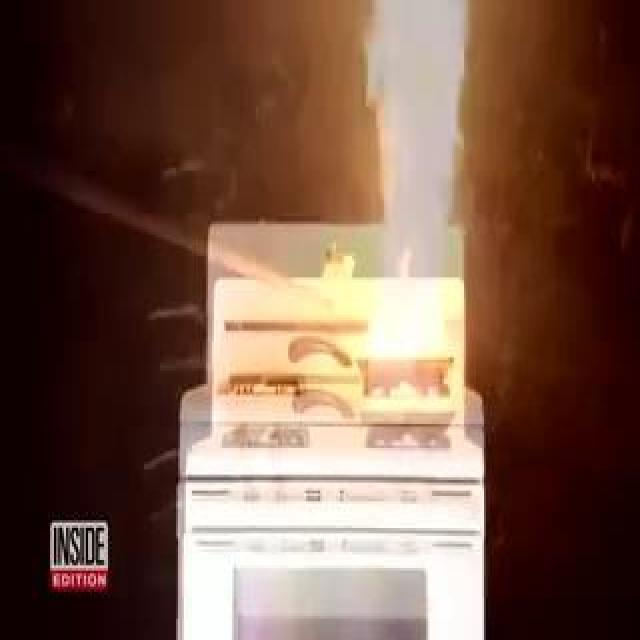Fire: (354, 219, 444, 432)
